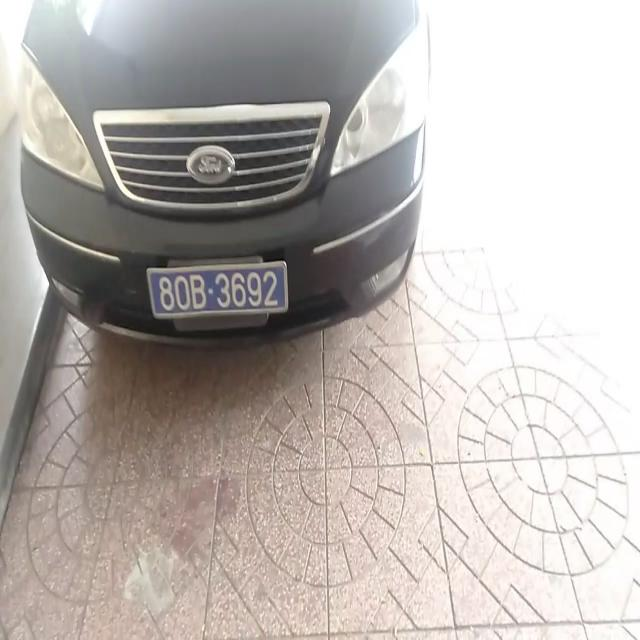bien_xanh: (147, 256, 288, 325)
